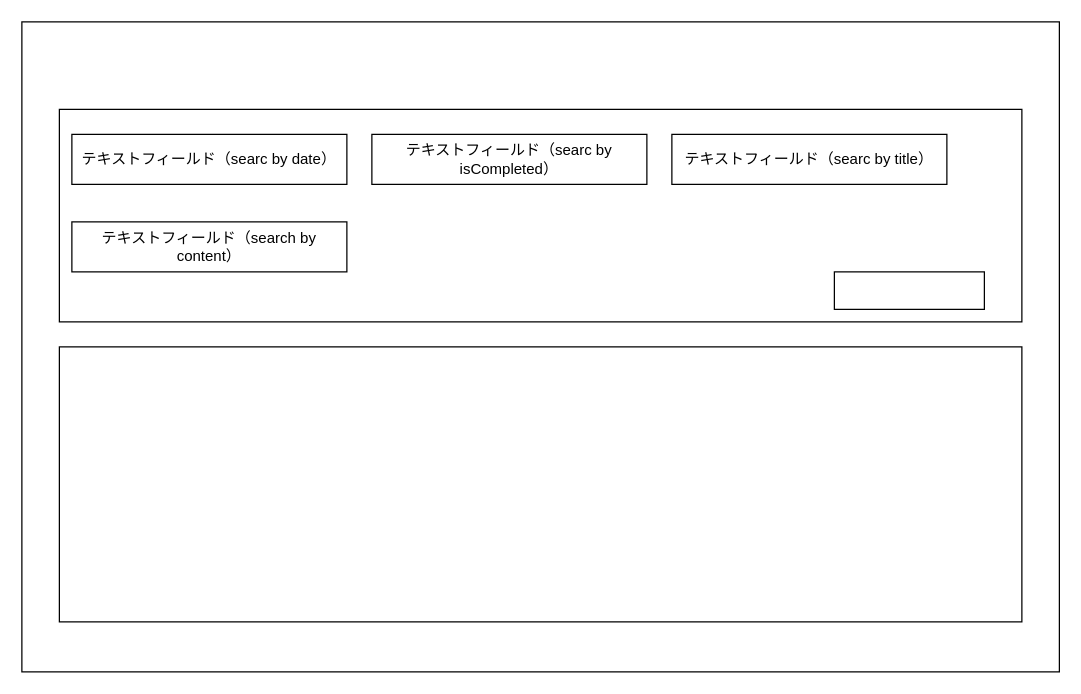
Image size: 1081x694. Some labels were removed from this diagram. Here are the shapes that lost their labels. From the top down, the centre of each, then its label:
(x=908, y=290): 検索ボタン
(x=540, y=484): ここにテーブル形式で検索結果を表示
